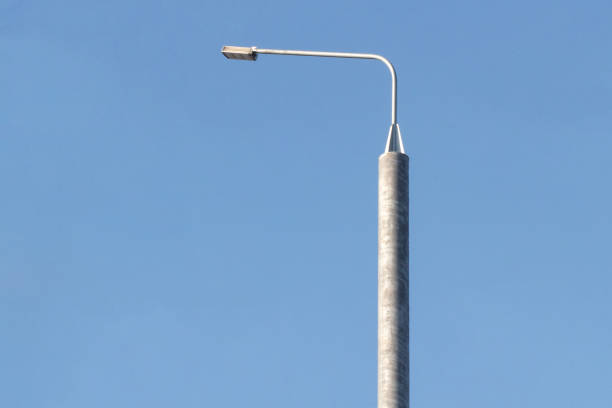light_pole: (376, 150, 413, 408)
